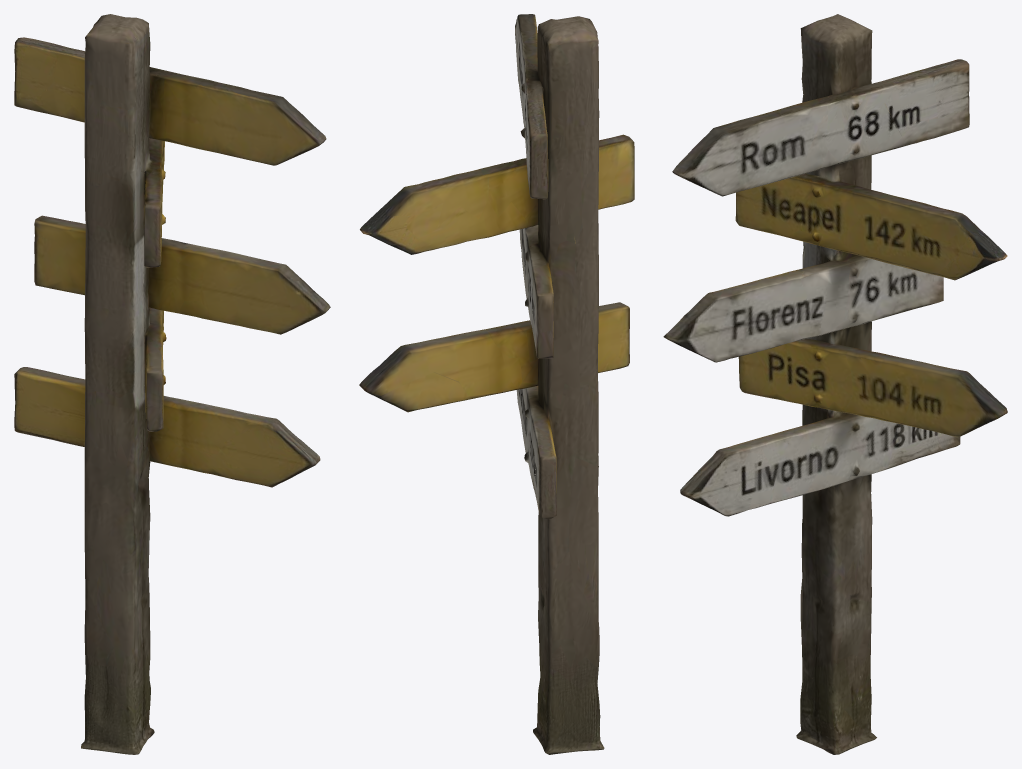
Rendered from prop_signpost.glb.
The picture shows the model from 3 angles, left to right: view 1: azimuth 30°, elevation 25°; view 2: azimuth 150°, elevation 25°; view 3: azimuth 270°, elevation 25°; orthographic projection.
Visible parts, largest first — view 1: tripo_node_d8841a7e-e8d8-4dd9-b9f1-fce93700decf; view 2: tripo_node_d8841a7e-e8d8-4dd9-b9f1-fce93700decf; view 3: tripo_node_d8841a7e-e8d8-4dd9-b9f1-fce93700decf.
Part boxes in pixels (x1,y1,x2,y2): tripo_node_d8841a7e-e8d8-4dd9-b9f1-fce93700decf: [14, 14, 330, 754]; tripo_node_d8841a7e-e8d8-4dd9-b9f1-fce93700decf: [359, 14, 634, 754]; tripo_node_d8841a7e-e8d8-4dd9-b9f1-fce93700decf: [663, 14, 1007, 754].
Size of the model in its own units: 0.2567 by 1 by 0.4364.
Materials: 1 (1 with a texture image).
